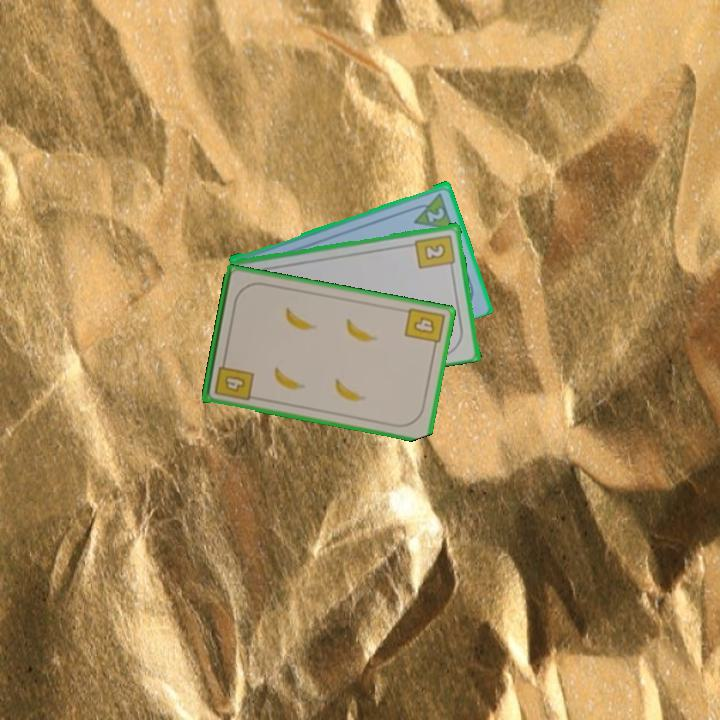2b: (412, 231, 458, 273)
2p: (423, 204, 447, 225)
4b: (401, 304, 447, 353), (211, 355, 256, 403)
